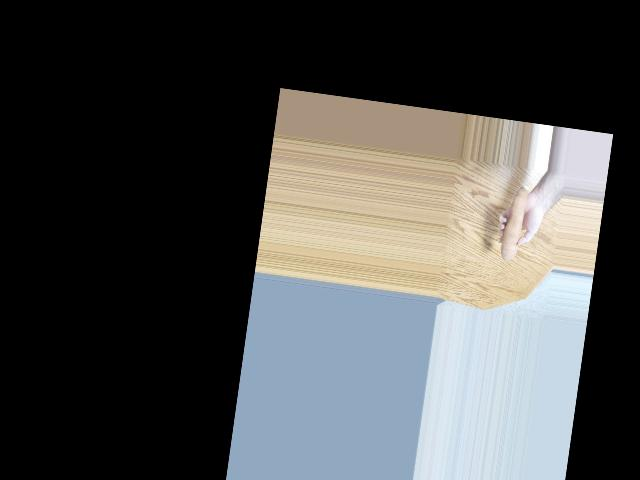sweet_potato: (493, 185, 527, 265)
